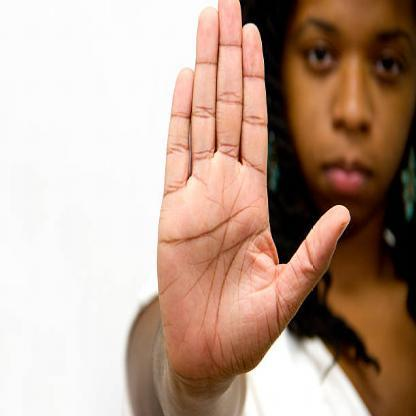stop: (154, 0, 351, 384)
